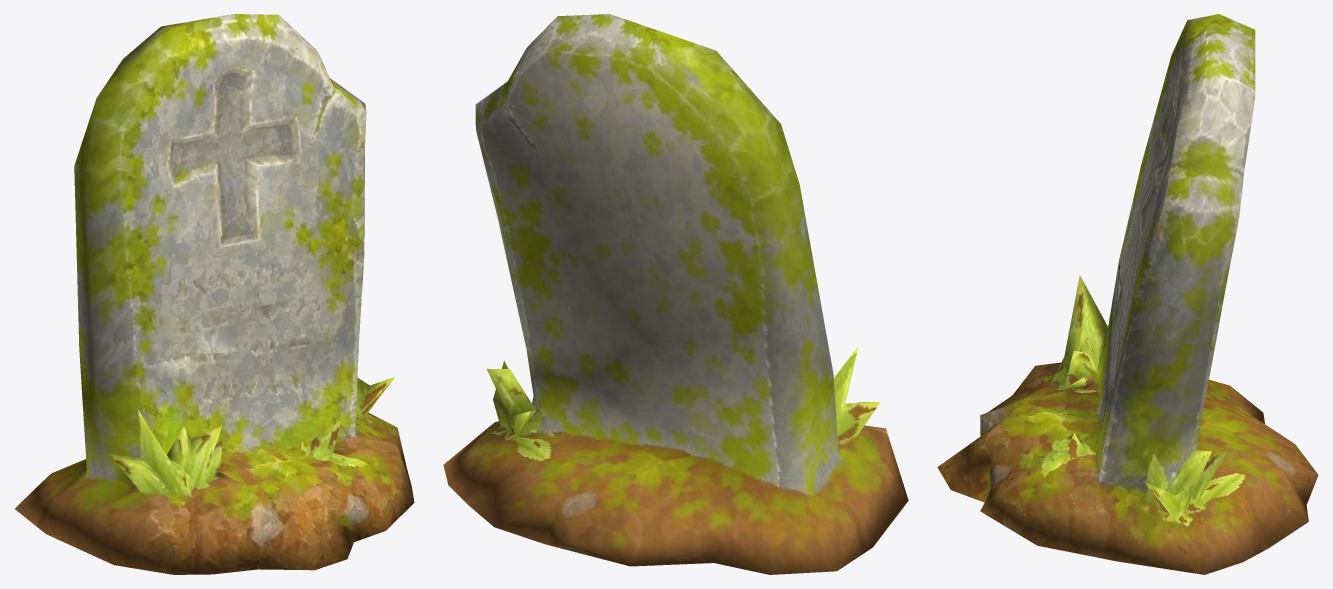
The model's file is grave.glb.
3 views of the same model, side by side, from view 1: azimuth 30°, elevation 25°; view 2: azimuth 150°, elevation 25°; view 3: azimuth 270°, elevation 25° (orthographic). The views are drawn at different scales.
Parts seen in each view (by area): view 1: Prop_Grave; view 2: Prop_Grave; view 3: Prop_Grave.
Part boxes in pixels (x1,y1,x2,y2): Prop_Grave: [15, 14, 414, 574]; Prop_Grave: [443, 14, 908, 574]; Prop_Grave: [937, 14, 1318, 574].
Size of the model in its own units: 0.7716 by 0.9017 by 0.679.
Materials: 1 (1 with a texture image).
